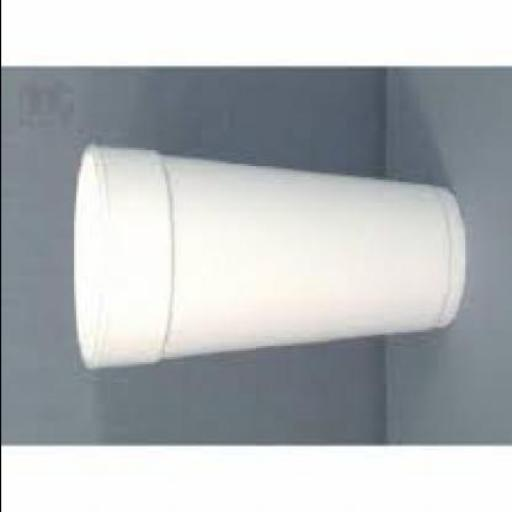paper: (70, 146, 464, 373)
